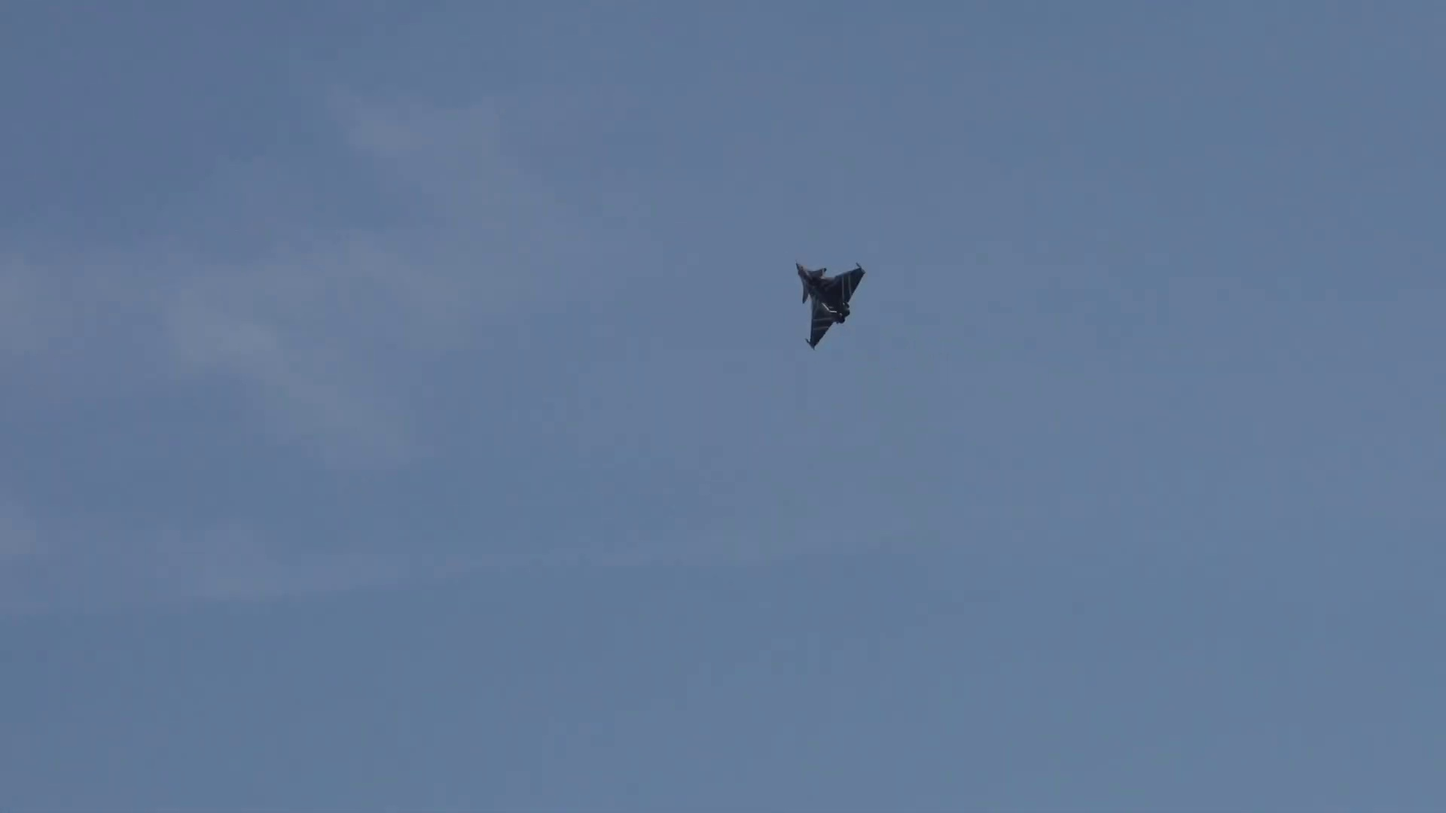Rafale: (794, 257, 871, 353)
